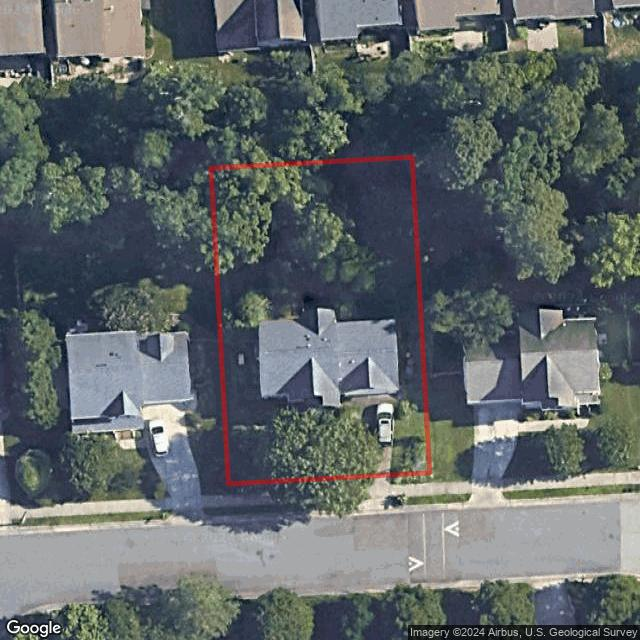Driveway: (348, 395, 399, 478)
Extra-Driveway: (347, 474, 390, 511)
Extra-Lawn: (227, 477, 350, 493), (228, 501, 351, 516), (383, 494, 436, 508), (390, 470, 432, 483)
Extra-Sidewalk: (227, 481, 432, 507)
House: (258, 307, 400, 408)
Lawn: (210, 155, 432, 486)
Other: (235, 350, 246, 367)
